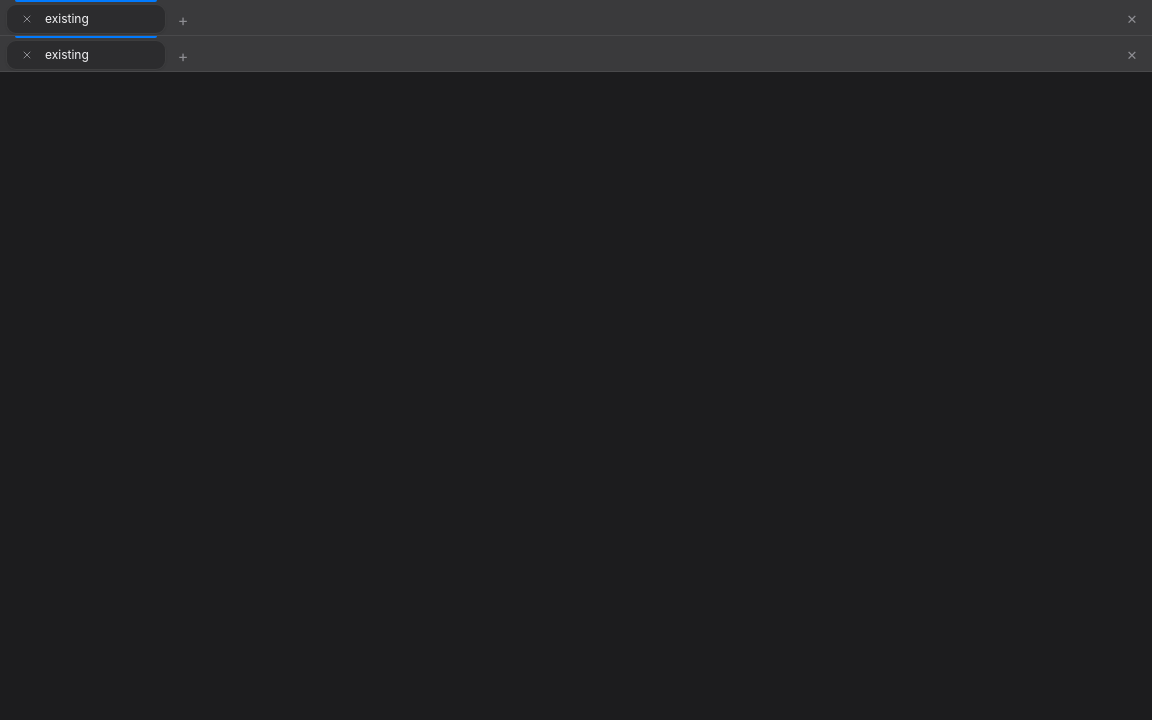
new tab path dialog › cancels a pending validation without creating a tab
Click the 1st button with class "tab-add". click: (183, 20)
box: x1=172 y1=8 x2=194 y2=30
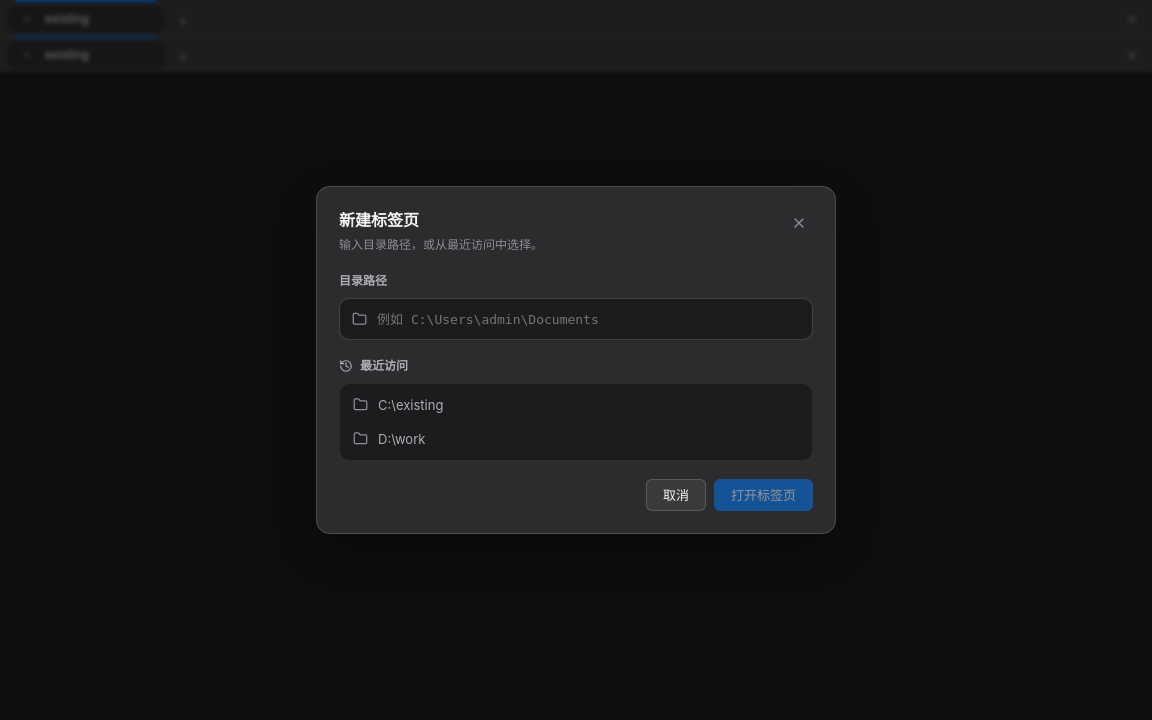
Click the button with class "new-tab-history-item" showing "C:\\existing". click: (411, 405)
box: x1=344 y1=388 x2=808 y2=422
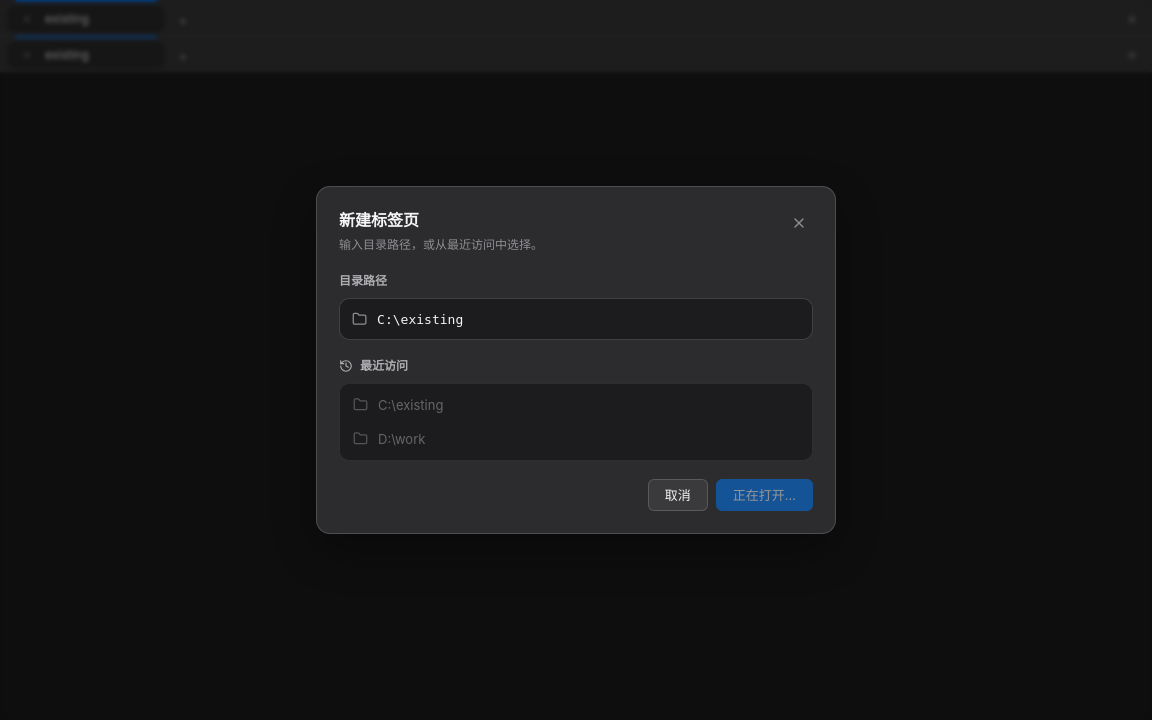
Click the button with class "new-tab-close". click: (799, 223)
box: x1=785 y1=209 x2=813 y2=237
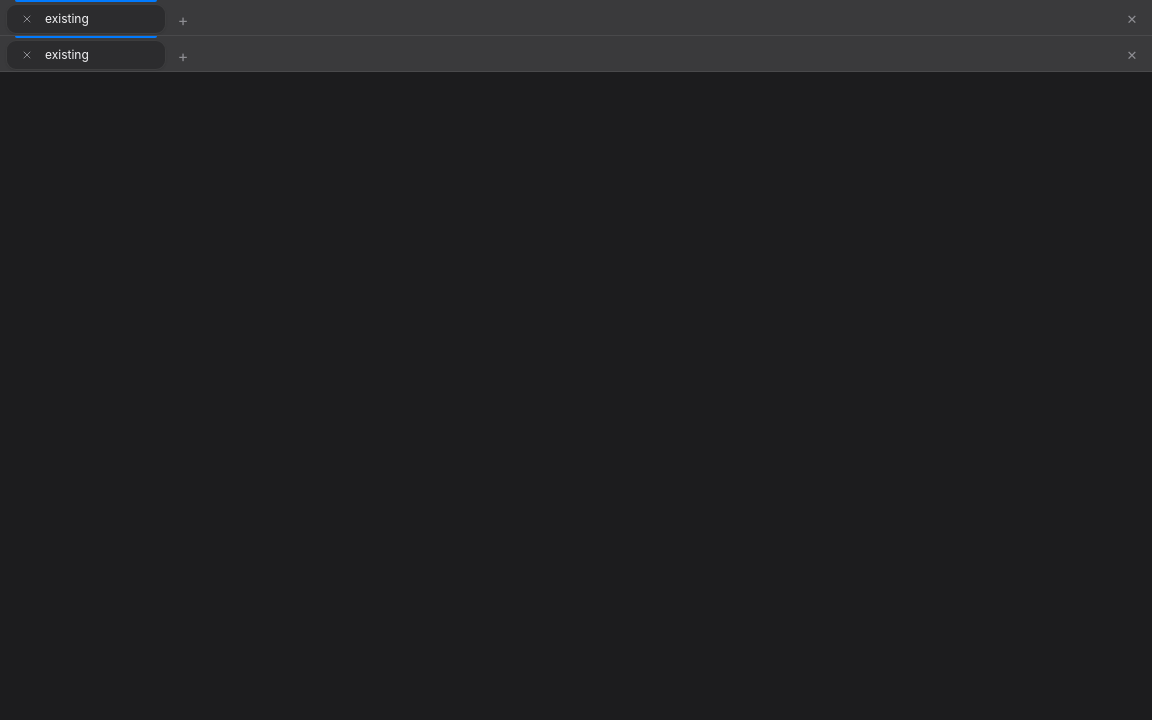
expect the dialog is gone: met
